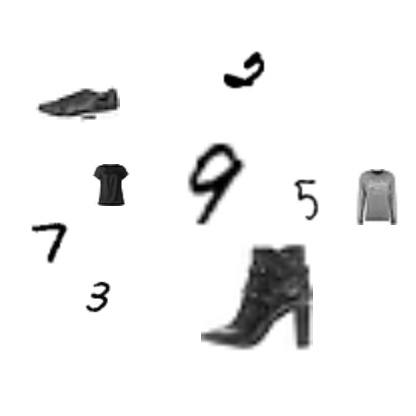2: (218, 44, 274, 100)
3: (79, 276, 121, 318)
5: (278, 168, 334, 224)
7: (24, 209, 80, 265)
9: (157, 120, 269, 232)
Ankle_boot: (201, 241, 313, 353)
Pullover: (349, 169, 405, 225)
Shirt: (90, 164, 132, 206)
Sneaker: (36, 62, 120, 146)
